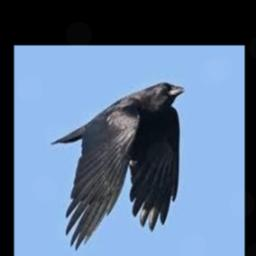Crow: (50, 80, 184, 251)
